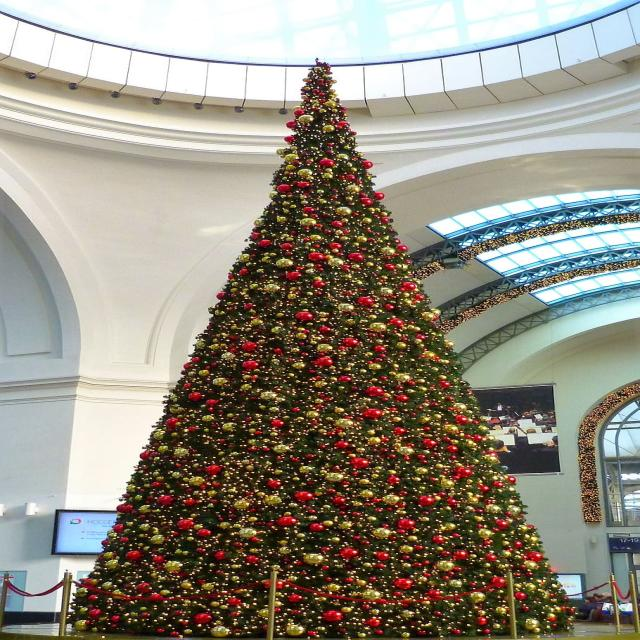Christmas-tree: (88, 63, 562, 640)
